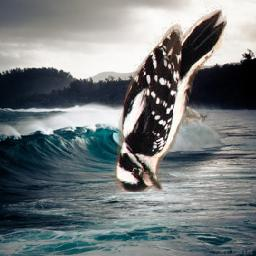Woodpecker: (115, 6, 228, 192)
